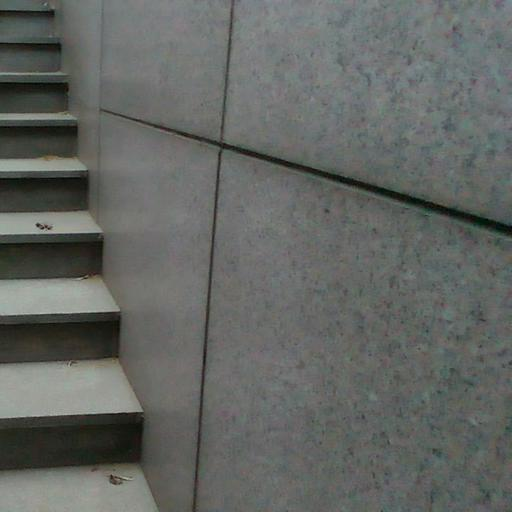stairs: (0, 0, 156, 511)
